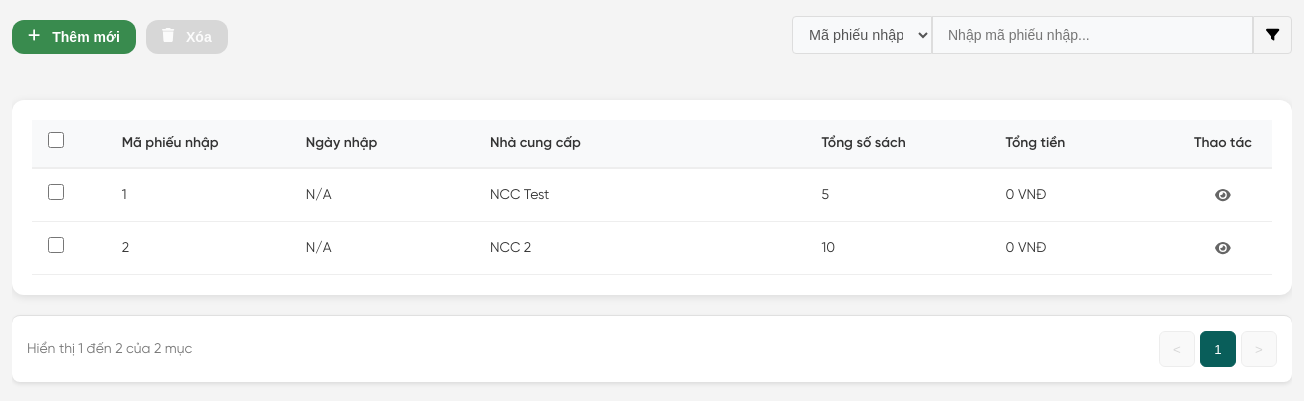
Scenario: ImportTable › opens advanced search panel
Expected: the text "NCC Test" is shown, [474,169,806,222]
What coordinates should you click on to do the following:
click the button titled "Tìm kiếm nâng cao"
I would click on:
 (1272, 35)
Its box is [1253,16,1292,54].
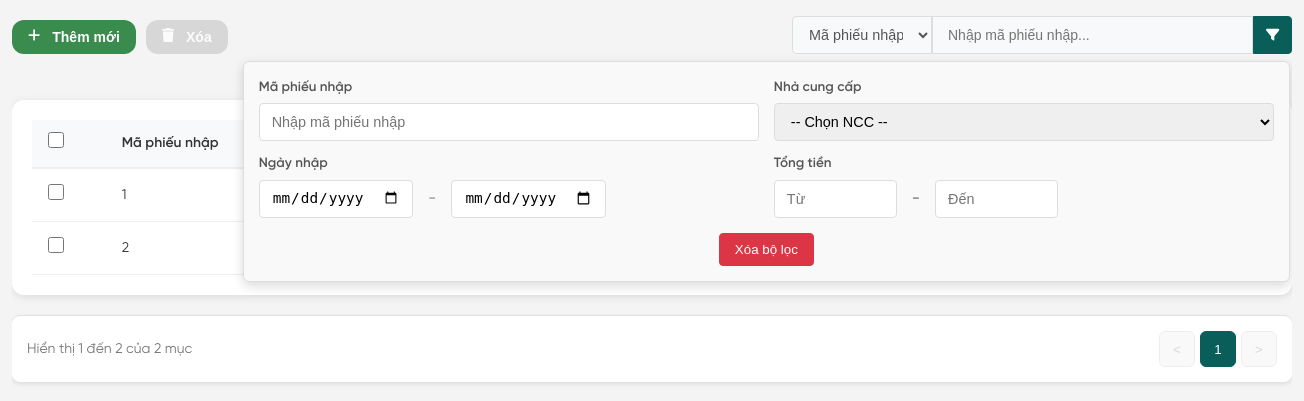
Expected: the field labelled "Mã phiếu nhập" is shown, [259,103,759,141]
Expected: the dropdown labelled "Nhà cung cấp" is shown, [774,103,1274,141]
